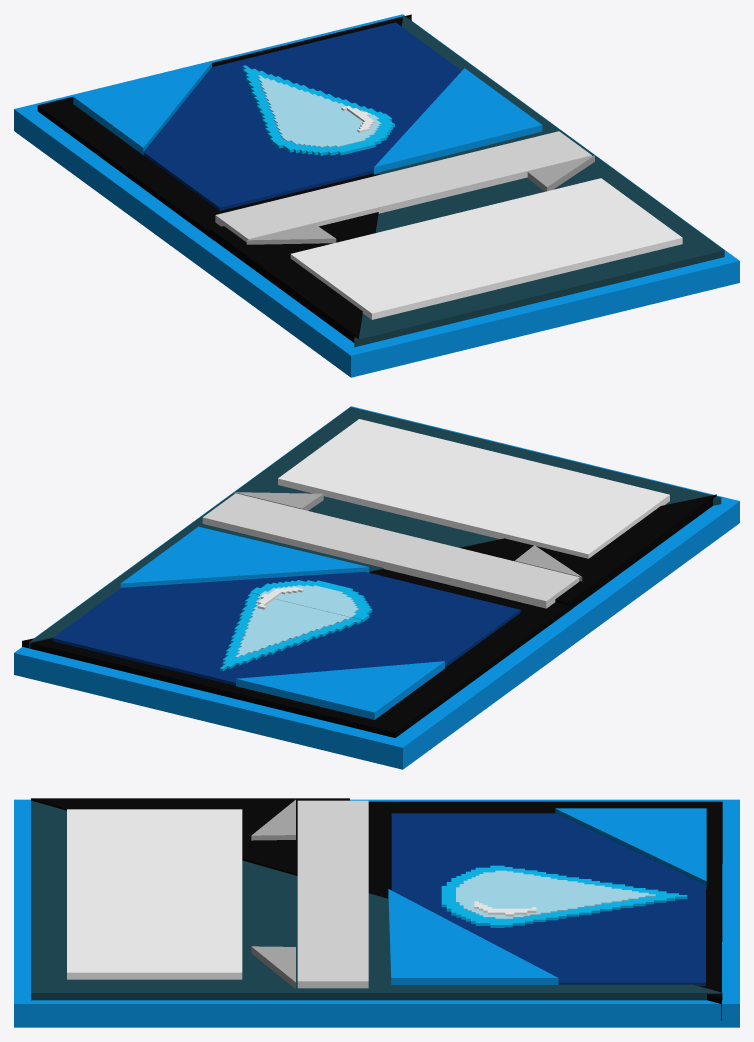
The model's file is carta_agua.glb.
The picture shows the model from 3 angles, top to bottom: view 1: azimuth 30°, elevation 25°; view 2: azimuth 150°, elevation 25°; view 3: azimuth 270°, elevation 25°; orthographic projection. The views are drawn at different scales.
Visible parts, largest first — view 1: rect3830, rect3918, rect3820, path42364.001, path3828, path3932, path3824, path42370.001, path3934, path10497.001, rect946.001, path10495.001 (+3 smaller); view 2: rect3830, rect3918, rect3820, path3828, path42364.001, path3824, path3932, path3934, path42370.001, path10497.001, rect946.001, path10495.001 (+3 smaller); view 3: rect3830, rect3918, rect3820, path42364.001, path3828, path3824, path3932, path3934, path42370.001, path10497.001, rect946.001, path10495.001 (+4 smaller).
Boxes of the visible parts, box(x1,y1,x2,y2) form: rect3830: box(143, 22, 461, 210); rect3918: box(290, 178, 682, 319); rect3820: box(14, 14, 739, 377); path42364.001: box(354, 15, 724, 347); path3828: box(215, 131, 591, 241); path3932: box(374, 68, 542, 174); path3824: box(37, 14, 411, 240); path42370.001: box(210, 212, 378, 342); path3934: box(73, 62, 211, 155); path10497.001: box(257, 75, 371, 136); rect946.001: box(242, 65, 383, 142); path10495.001: box(282, 114, 381, 147); rect3830: box(52, 571, 520, 685); rect3918: box(278, 419, 669, 558); rect3820: box(14, 406, 739, 769); path3828: box(202, 493, 579, 608); path42364.001: box(29, 407, 721, 648); path3824: box(22, 569, 572, 737); path3932: box(120, 526, 369, 587); path3934: box(236, 661, 444, 719); path42370.001: box(459, 494, 716, 607); path10497.001: box(235, 595, 350, 657); rect946.001: box(220, 593, 361, 670); path10495.001: box(259, 585, 358, 618); rect3830: box(391, 813, 705, 985); rect3918: box(67, 809, 242, 979); rect3820: box(14, 799, 739, 1027); path42364.001: box(31, 800, 722, 1000); path3828: box(297, 800, 368, 988); path3824: box(368, 801, 722, 1020); path3932: box(388, 889, 558, 984); path3934: box(555, 808, 706, 888); path42370.001: box(31, 798, 349, 875); path10497.001: box(507, 871, 655, 919); rect946.001: box(504, 867, 687, 927); path10495.001: box(456, 870, 506, 919).
Size of the model in its own units: 0.6706 by 0.0594 by 1.01.
